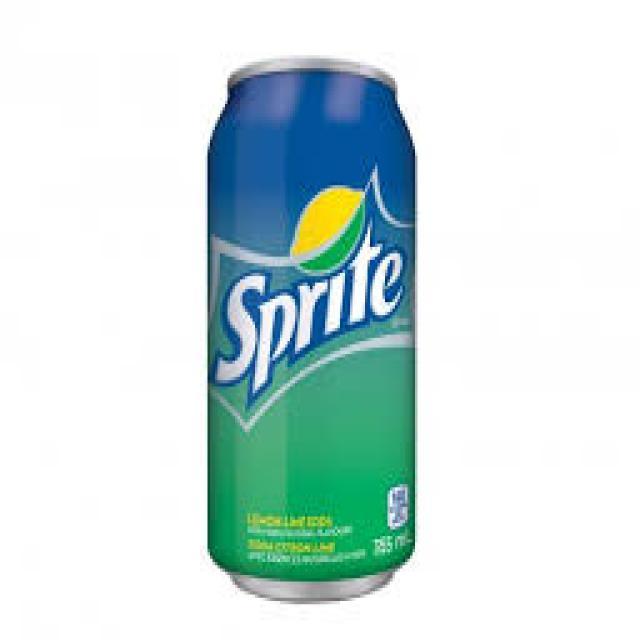aluminum_can: (204, 57, 418, 604)
